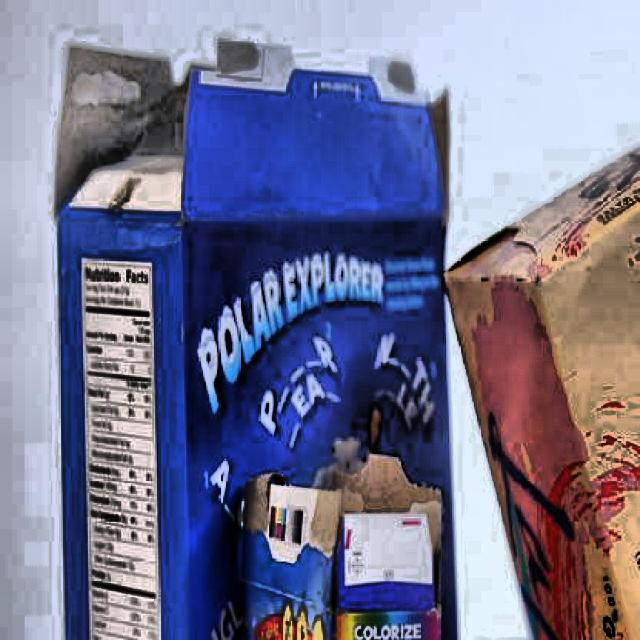Cardbox: (131, 77, 486, 640), (437, 155, 638, 640), (50, 94, 197, 638)
